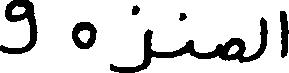X: (111, 0, 150, 72), (0, 0, 37, 58), (73, 17, 95, 53), (225, 33, 242, 67), (281, 0, 288, 72), (186, 11, 192, 60), (261, 12, 265, 59)
